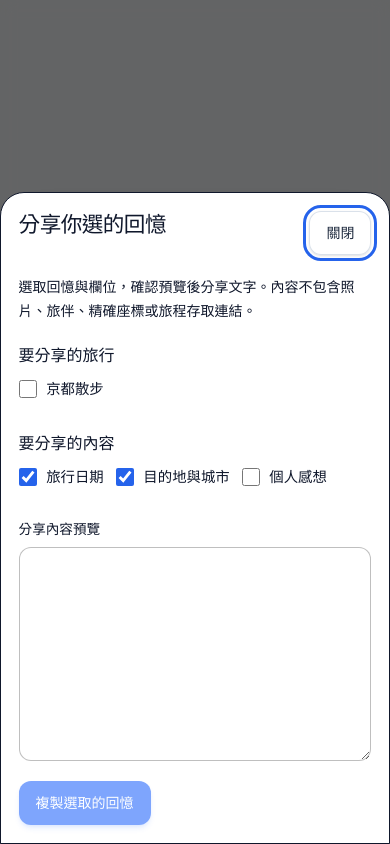
it: travel journal views › requires an explicit selection before sharing and displays only selected text
Expected: the button "複製選取的回憶" is disabled, [19, 781, 151, 825]
Click the checkbox labelled "京都散步": (28, 389) [19, 380, 37, 398]
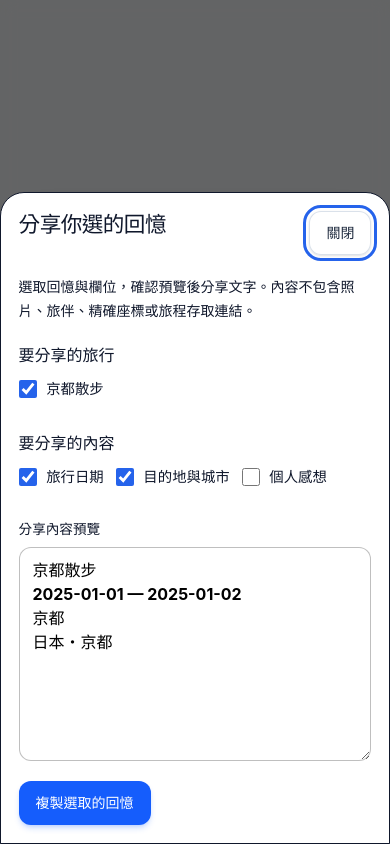
Result: the button "複製選取的回憶" is enabled at [19, 781, 151, 825]
